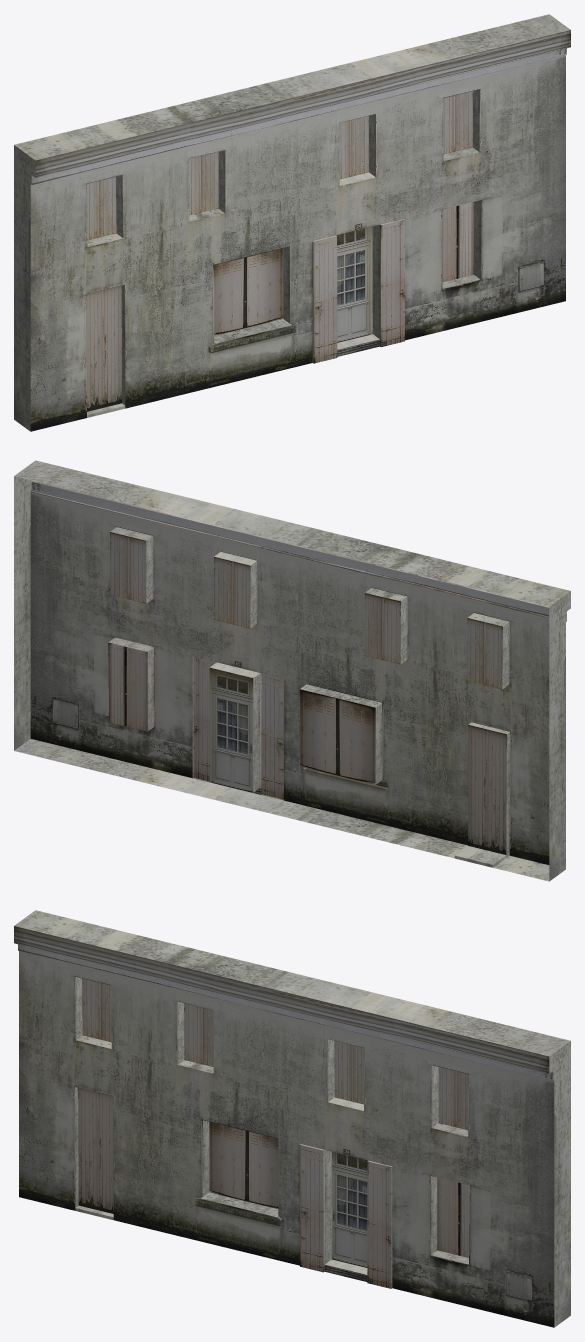
The model's file is old_house_-_building_realistic_asset_low-poly.glb.
3 views of the same model, one above another, from view 1: azimuth 30°, elevation 25°; view 2: azimuth 150°, elevation 25°; view 3: azimuth 330°, elevation 25° (orthographic).
Visible parts, largest first — view 1: Old Building #1; view 2: Old Building #1; view 3: Old Building #1.
Boxes of the visible parts, left/top/right/bottom form: Old Building #1: left=14, top=14, right=570, bottom=431; Old Building #1: left=14, top=460, right=570, bottom=881; Old Building #1: left=14, top=910, right=570, bottom=1327.
Bounding box in the file's own units: 12.02 × 5.89 × 0.8397.
Materials: 1 (1 with a texture image).
